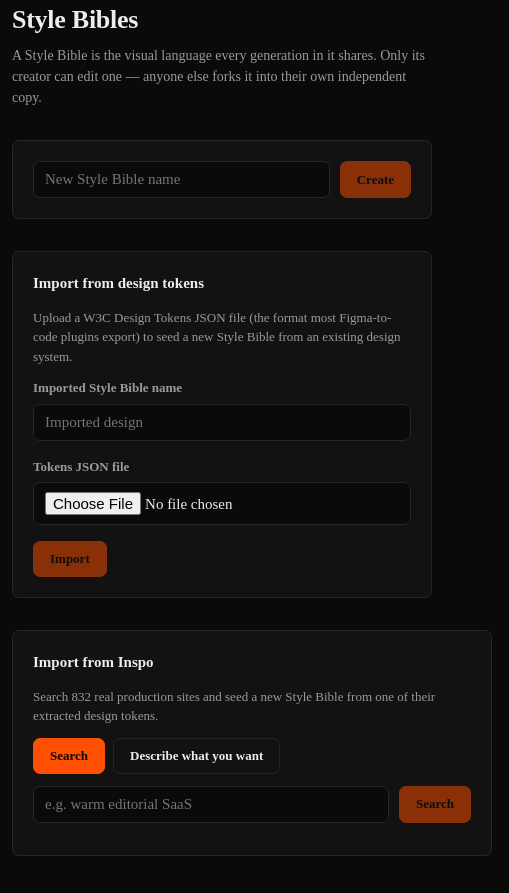
Test: Style Bibles create-error link › shows a Log in again link to /login?reason=expired when creation fails with a Not logged in error
The width and height of the screenshot is (509, 893).
Type "My Style" into the field with placeholder "New Style Bible name" at x=181, y=180, box [33, 161, 330, 198]
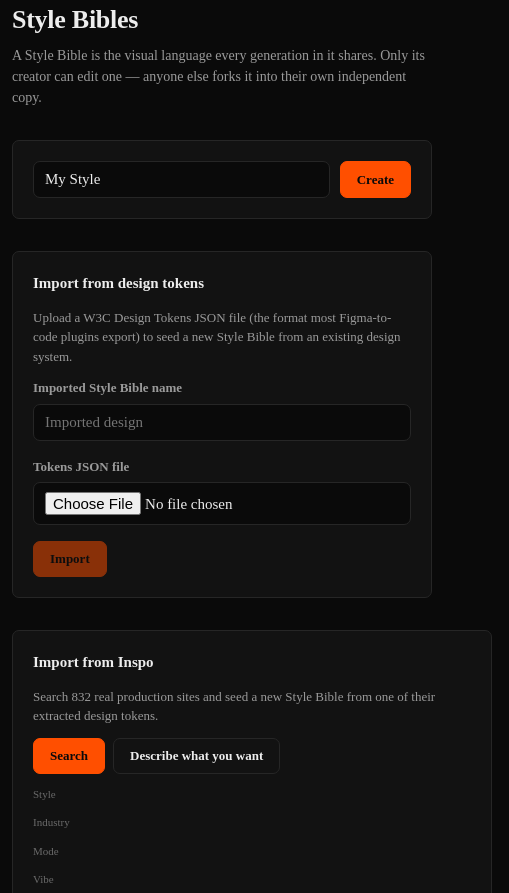
Click the button "Create" at x=375, y=180, box [340, 161, 411, 198]
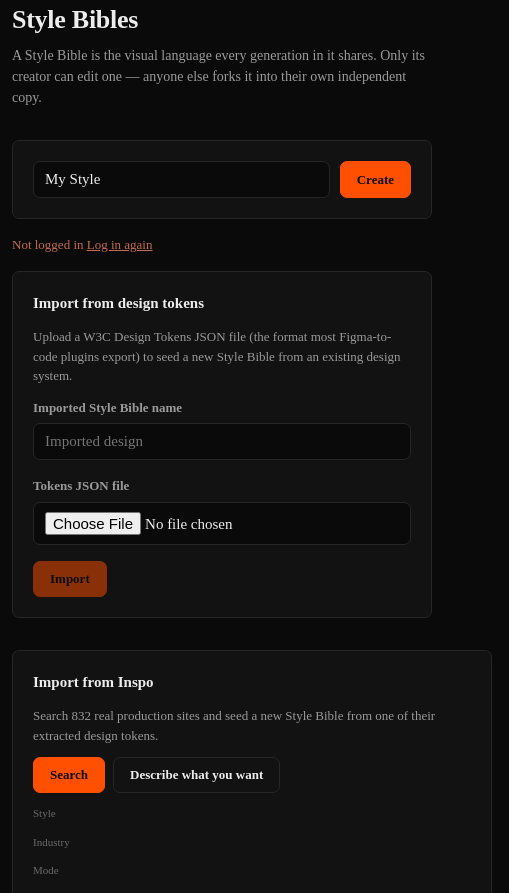
Now the text "Not logged in" is shown, box [12, 237, 84, 252]
